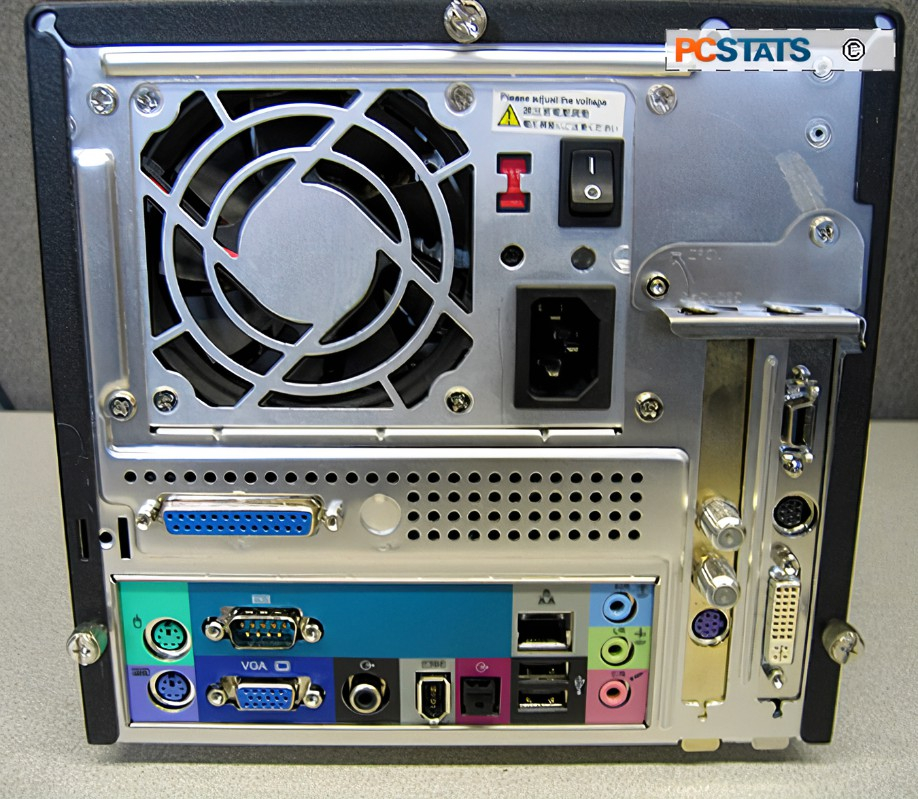Audio: (594, 675, 633, 715), (595, 630, 639, 664), (604, 591, 637, 623)
DVI: (768, 574, 799, 670)
VGA: (236, 682, 296, 715)
